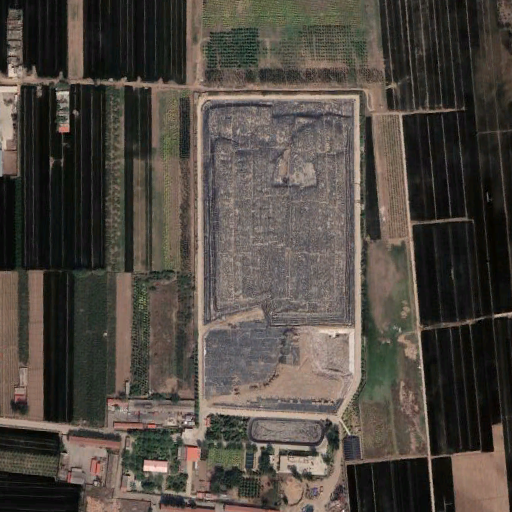lf: (194, 90, 360, 416)
